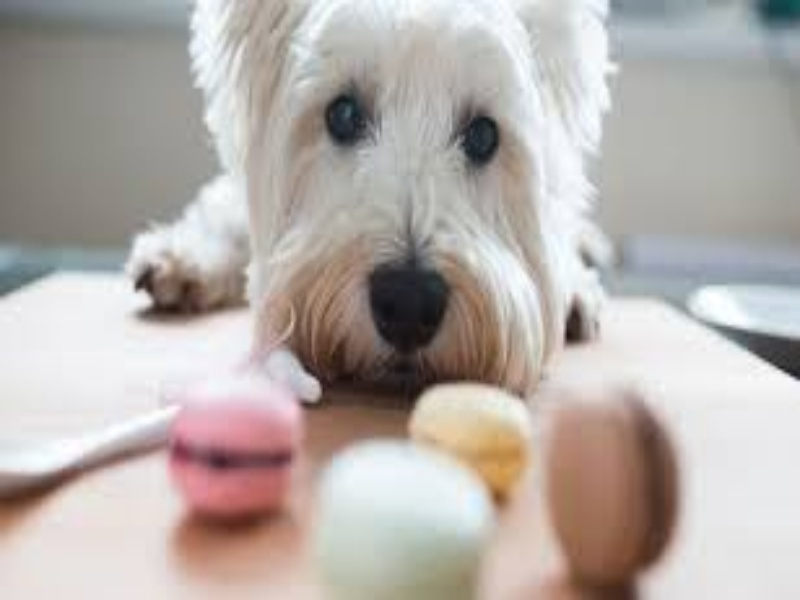dog: (127, 3, 636, 398)
